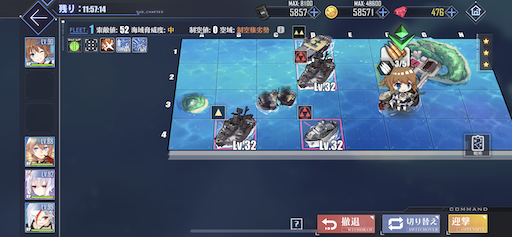lv1: (211, 105, 257, 150)
lv2: (292, 25, 330, 56)
lv3: (295, 102, 343, 149), (295, 51, 337, 90)
